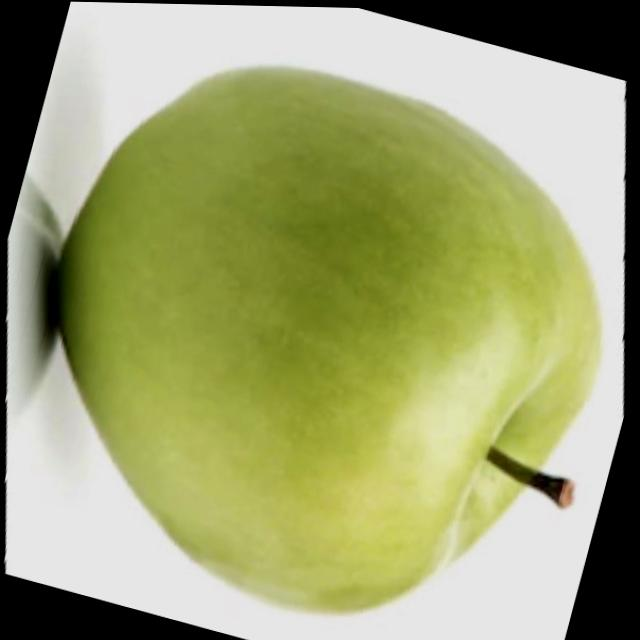Apple: (0, 11, 640, 640)
